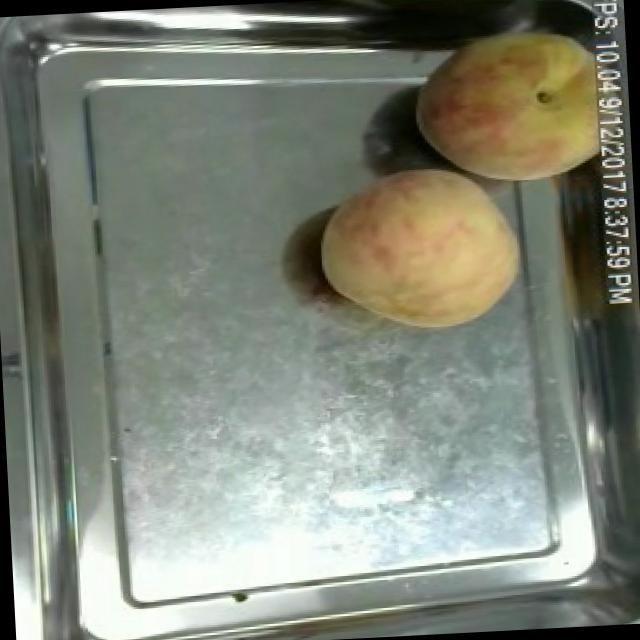Fruit: (309, 147, 535, 346), (401, 8, 626, 197)
